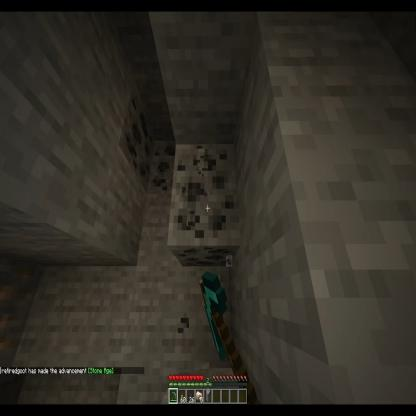coal ore: (166, 142, 239, 268), (121, 92, 150, 194), (146, 136, 178, 196)
iron ore: (0, 245, 37, 385)
